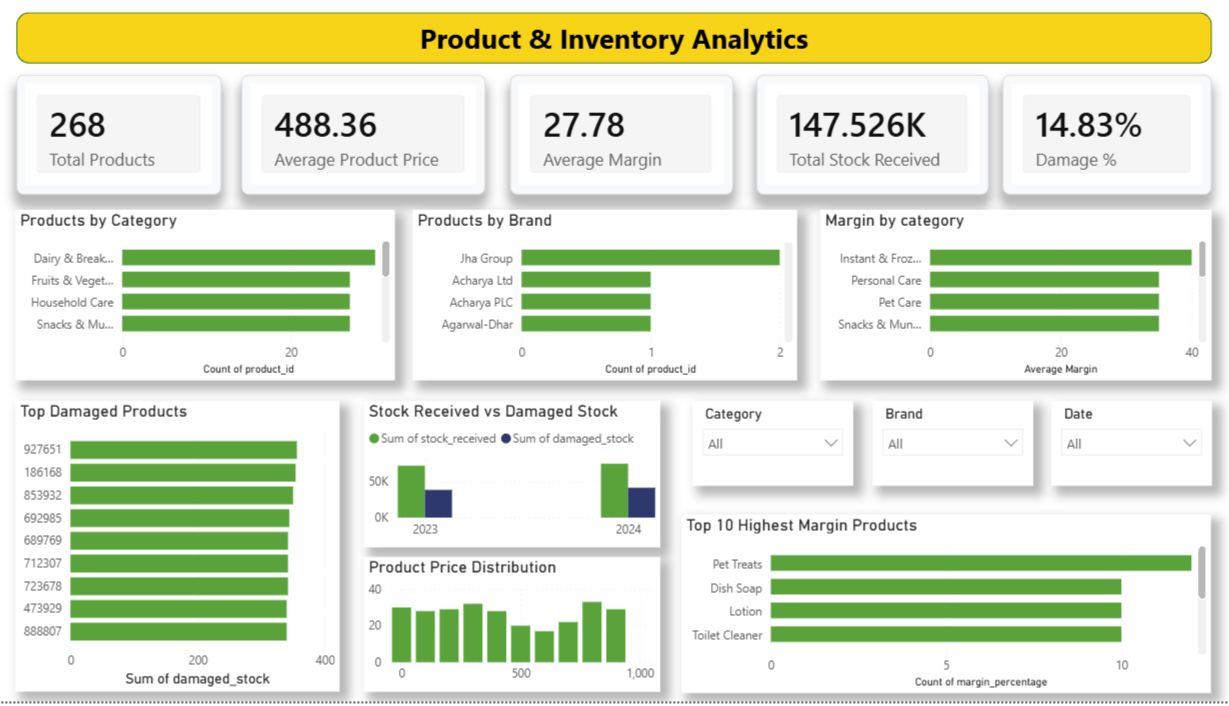

What the dashboard file says about the page in this screenshot:
{"tool":"powerbi","page":{"name":"Product & Inventory Analytics","canvas":[1280,720],"ordinal":3},"visuals":[{"type":"shape","title":"Blinkit Business Analytics Dashboard","box":[20,12.5,1226.2,52.5],"z":0},{"type":"cardVisual","fields":{"Data":["CountNonNull(Products.product_id)"]},"box":[20,77.1,210,122.9],"z":1000},{"type":"cardVisual","fields":{"Data":["Products.Average Product Price"]},"box":[251.4,77.1,250,122.9],"z":2000},{"type":"cardVisual","fields":{"Data":["Products.Average Margin"]},"box":[527.1,77.1,228.6,122.9],"z":3000},{"type":"cardVisual","fields":{"Data":["Sum(Inventory.stock_received)"]},"box":[780,77.1,238.6,122.9],"z":4000},{"type":"cardVisual","fields":{"Data":["Inventory.Damage %"]},"box":[1031.4,77.1,214.3,122.9],"z":5000},{"type":"clusteredBarChart","title":"Products by Category","fields":{"Category":["Products.category"],"Y":["CountNonNull(Products.product_id)"]},"box":[19.7,215.8,389.5,175],"z":6000},{"type":"clusteredBarChart","title":"Products by Brand","fields":{"Category":["Products.brand"],"Y":["CountNonNull(Products.product_id)"]},"box":[426.3,215.8,394.7,175],"z":7000},{"type":"clusteredBarChart","title":"Top 10 Highest Margin Products","fields":{"Category":["Products.product_name"],"Y":["CountNonNull(Products.margin_percentage)"]},"box":[702.6,527.6,543.4,182.9],"z":8000},{"type":"clusteredColumnChart","title":"Stock Received vs Damaged Stock","fields":{"Category":["Inventory.date.Variation.Date Hierarchy.Year","Inventory.date.Variation.Date Hierarchy.Quarter","Inventory.date.Variation.Date Hierarchy.Month","Inventory.date.Variation.Date Hierarchy.Day"],"Y":["Sum(Inventory.stock_received)","Sum(Inventory.damaged_stock)"]},"box":[376.3,411.8,303.9,150],"z":9000},{"type":"clusteredBarChart","title":"Top Damaged Products","fields":{"Y":["Sum(Inventory.damaged_stock)"],"Category":["Inventory.product_id"]},"box":[19.7,411.8,332.9,298.7],"z":10000},{"type":"clusteredColumnChart","title":"Product Price Distribution","fields":{"Y":["CountNonNull(Products.product_id)"],"Category":["Products.price (bins)"]},"box":[376.3,572.4,303.9,138.2],"z":11000},{"type":"clusteredBarChart","title":"Margin by category","fields":{"Category":["Products.category"],"Y":["Products.Average Margin"]},"box":[844.7,215.8,401.3,175],"z":12000},{"type":"slicer","fields":{"Values":["Products.category"]},"box":[714.5,411.8,164.5,86.8],"z":13000},{"type":"slicer","fields":{"Values":["Products.brand"]},"box":[898.7,411.8,164.5,86.8],"z":14000},{"type":"slicer","fields":{"Values":["Inventory.date"]},"box":[1081.6,411.8,164.5,86.8],"z":15000}]}

Visuals, with their boxes in screenshot pixels (x1, y1, x2, y2), scaled from the page's 1280x720 canvas onto the 1229x706 screenshot:
"Blinkit Business Analytics Dashboard" shape: [left=19, top=12, right=1197, bottom=64]
cardVisual - CountNonNull(Products.product_id): [left=19, top=76, right=221, bottom=196]
cardVisual - Products.Average Product Price: [left=241, top=76, right=481, bottom=196]
cardVisual - Products.Average Margin: [left=506, top=76, right=726, bottom=196]
cardVisual - Sum(Inventory.stock_received): [left=749, top=76, right=978, bottom=196]
cardVisual - Inventory.Damage %: [left=990, top=76, right=1196, bottom=196]
"Products by Category" clusteredBarChart: [left=19, top=212, right=393, bottom=383]
"Products by Brand" clusteredBarChart: [left=409, top=212, right=788, bottom=383]
"Top 10 Highest Margin Products" clusteredBarChart: [left=675, top=517, right=1196, bottom=697]
"Stock Received vs Damaged Stock" clusteredColumnChart: [left=361, top=404, right=653, bottom=551]
"Top Damaged Products" clusteredBarChart: [left=19, top=404, right=339, bottom=697]
"Product Price Distribution" clusteredColumnChart: [left=361, top=561, right=653, bottom=697]
"Margin by category" clusteredBarChart: [left=811, top=212, right=1196, bottom=383]
slicer - Products.category: [left=686, top=404, right=844, bottom=489]
slicer - Products.brand: [left=863, top=404, right=1021, bottom=489]
slicer - Inventory.date: [left=1039, top=404, right=1196, bottom=489]
